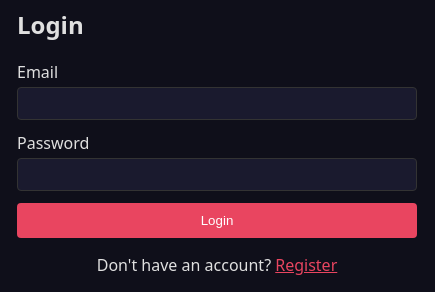
Scenario: Login Page › form submission › should show loading state while submitting
Type "test@test.com" into the field labelled "Email" at (217, 103), box [17,87,417,120]
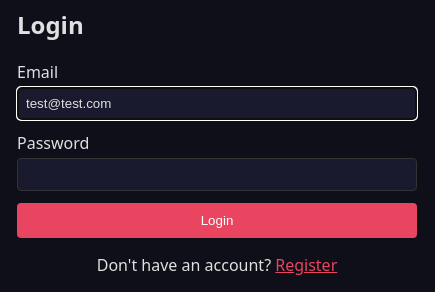
Type "123456" into the password field labelled "Password" at (217, 174), box [17,158,417,191]
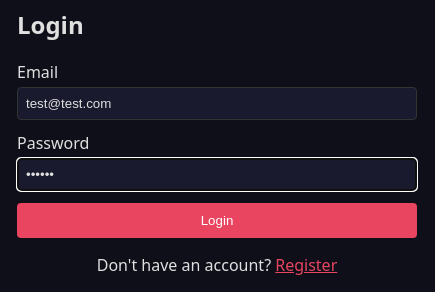
Click the button "Login" at (217, 220), box [17,203,417,238]
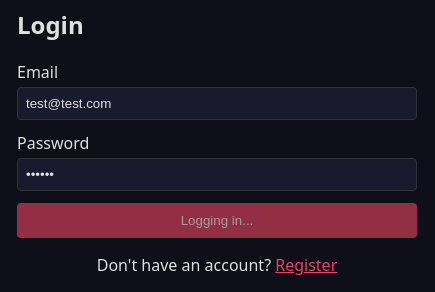
Now the button "Logging in..." is disabled, box [17,203,417,238]
